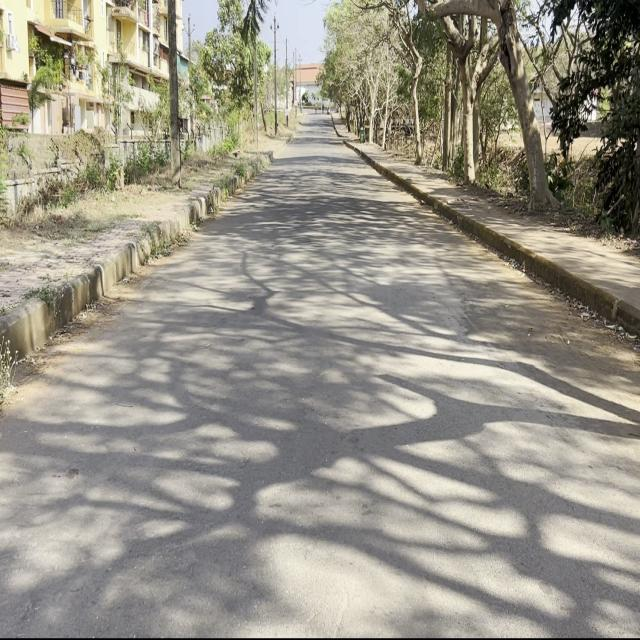Road: (4, 118, 636, 630)
